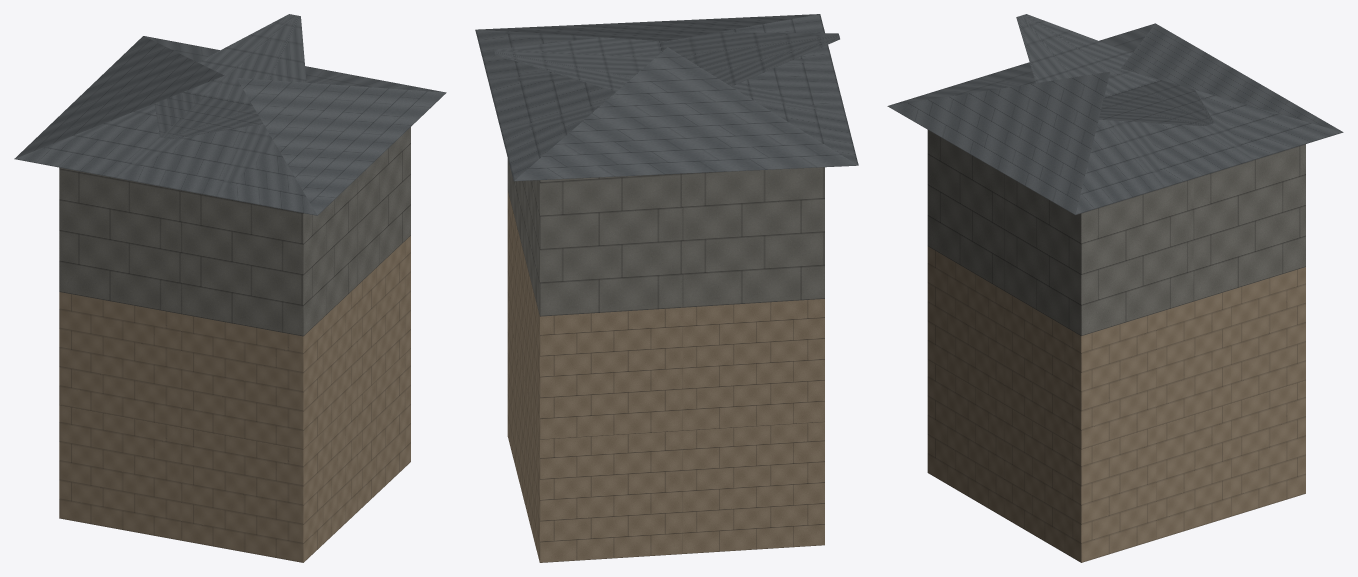
File: bld_c21_44_378.gltf
3 views of the same model, side by side, from view 1: azimuth 30°, elevation 25°; view 2: azimuth 150°, elevation 25°; view 3: azimuth 270°, elevation 25° (orthographic). The views are drawn at different scales.
Visible parts, largest first — view 1: bld_c21_44_378; view 2: bld_c21_44_378; view 3: bld_c21_44_378.
Part boxes in pixels (x1,y1,x2,y2): bld_c21_44_378: [14, 14, 446, 562]; bld_c21_44_378: [475, 14, 858, 562]; bld_c21_44_378: [887, 14, 1343, 562].
Size of the model in its own units: 8.37 by 8.4 by 8.42.
Materials: 3 (3 with a texture image).
